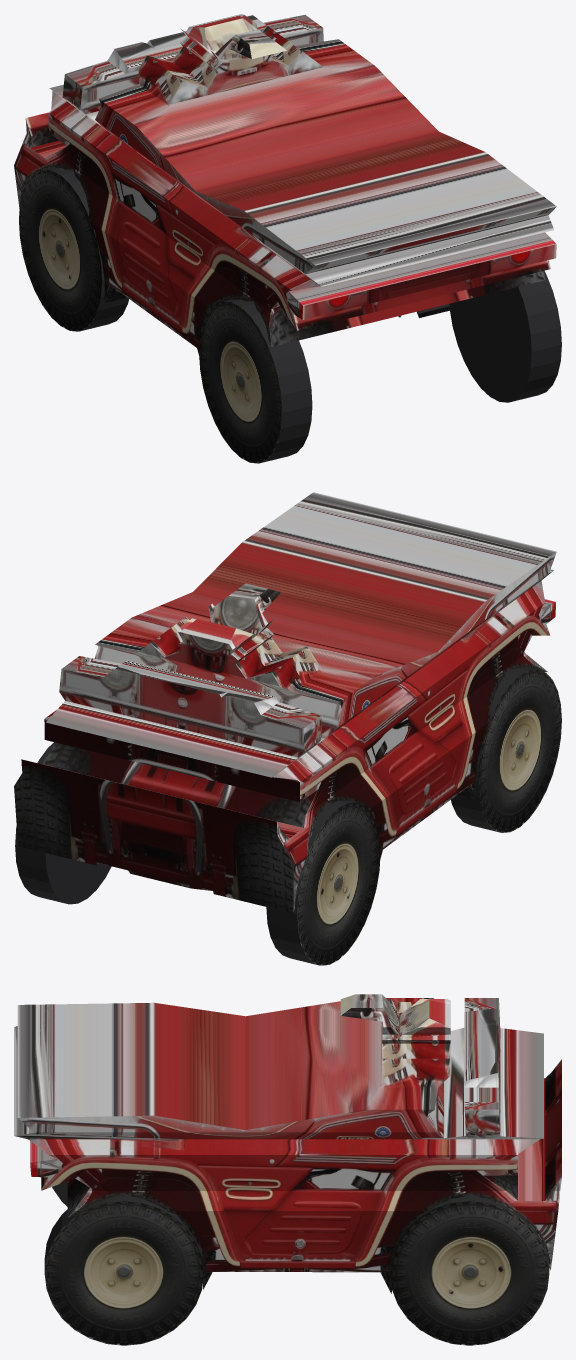
The model's file is atv.glb.
3 views of the same model, one above another, from view 1: azimuth 30°, elevation 25°; view 2: azimuth 150°, elevation 25°; view 3: azimuth 270°, elevation 25° (orthographic). The views are drawn at different scales.
Visible parts, largest first — view 1: atv, wheel_BL, wheel_FL, wheel_BR; view 2: atv, wheel_FL, wheel_BL, wheel_FR; view 3: atv, wheel_BR, wheel_FR.
Part boxes in pixels (x1,y1,x2,y2): atv: (14, 14, 556, 355); wheel_BL: (199, 299, 312, 463); wheel_FL: (19, 167, 128, 331); wheel_BR: (449, 270, 561, 402); atv: (14, 492, 556, 913); wheel_FL: (266, 800, 380, 965); wheel_BL: (451, 668, 561, 832); wheel_FR: (15, 742, 111, 904); atv: (14, 994, 561, 1293); wheel_BR: (44, 1193, 203, 1345); wheel_FR: (390, 1193, 549, 1345).
Size of the model in its own units: 1.18 by 1.18 by 2.09.
3 materials, 1 textured.
